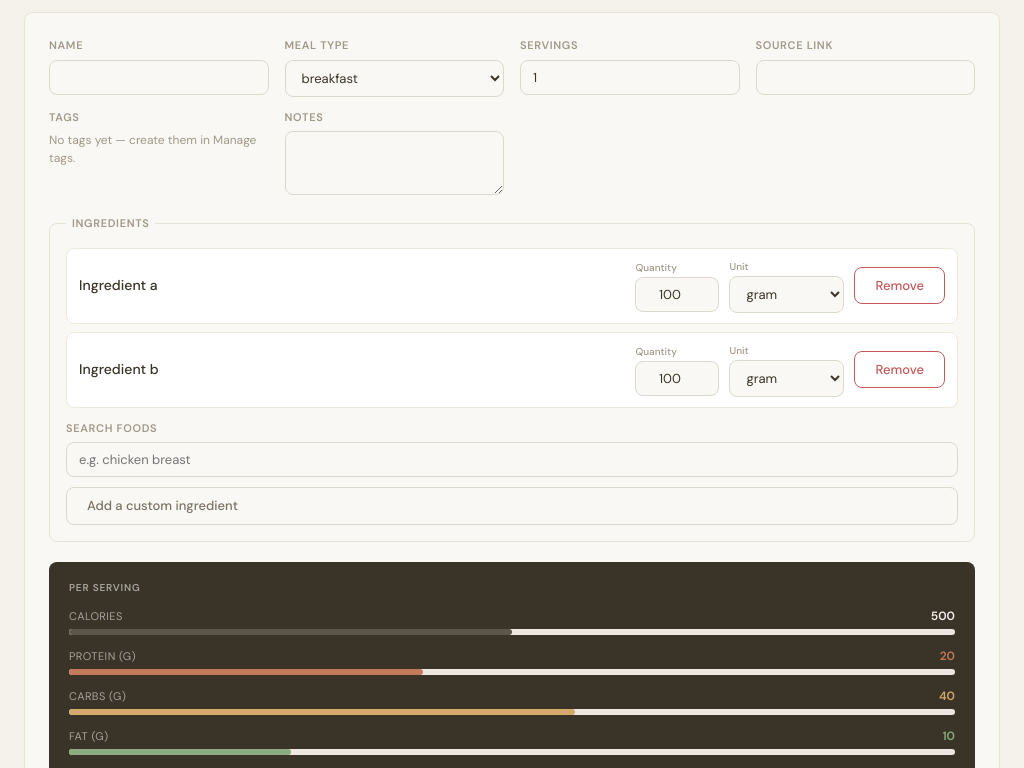
Test: RecipeEditor live nutrition › halves per-serving values when servings goes 1 -> 2 (via the shared engine)
This screenshot has width=1024, height=768.
Expected: the text named "per-serving calories" reads "500", x1=931 y1=608 x2=955 y2=624
Replace the text in the number field labelled "Servings" with "2": (630,77) x1=520 y1=60 x2=740 y2=94
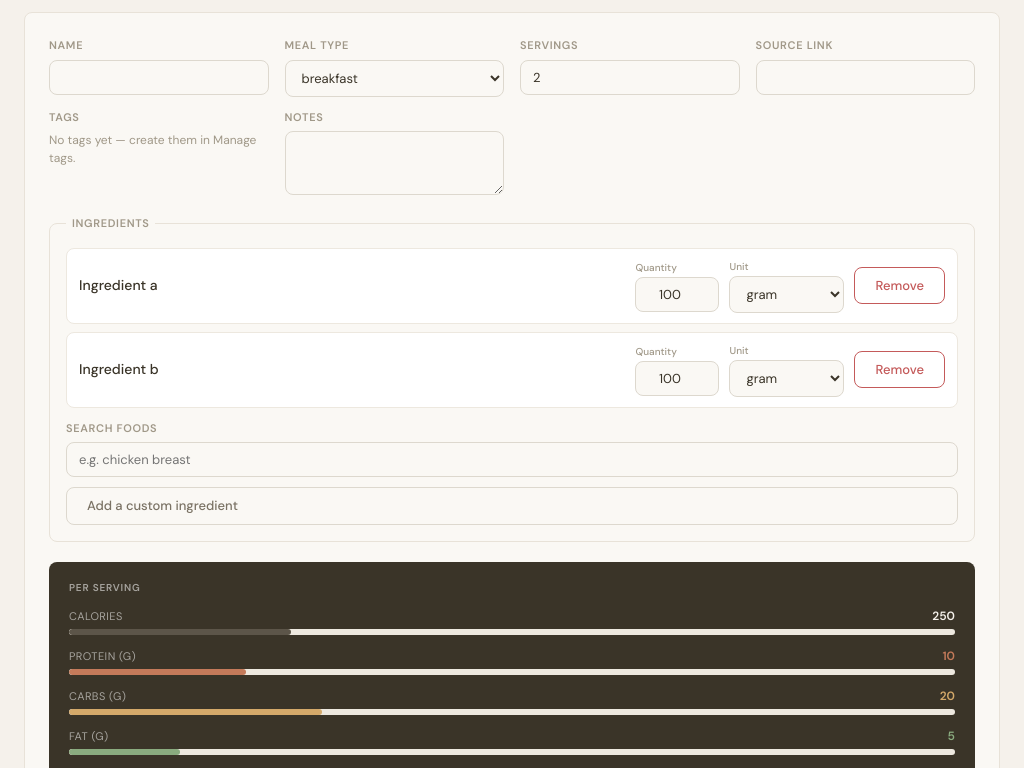
Expected: the text named "per-serving calories" reads "250", x1=932 y1=608 x2=955 y2=624
